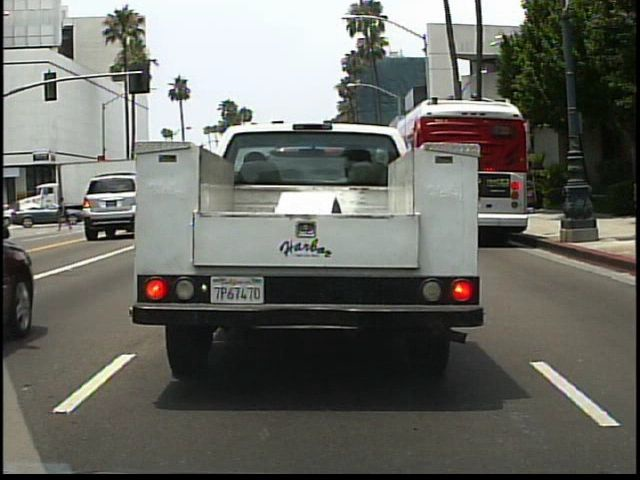person: (54, 192, 76, 236), (20, 196, 39, 231)
